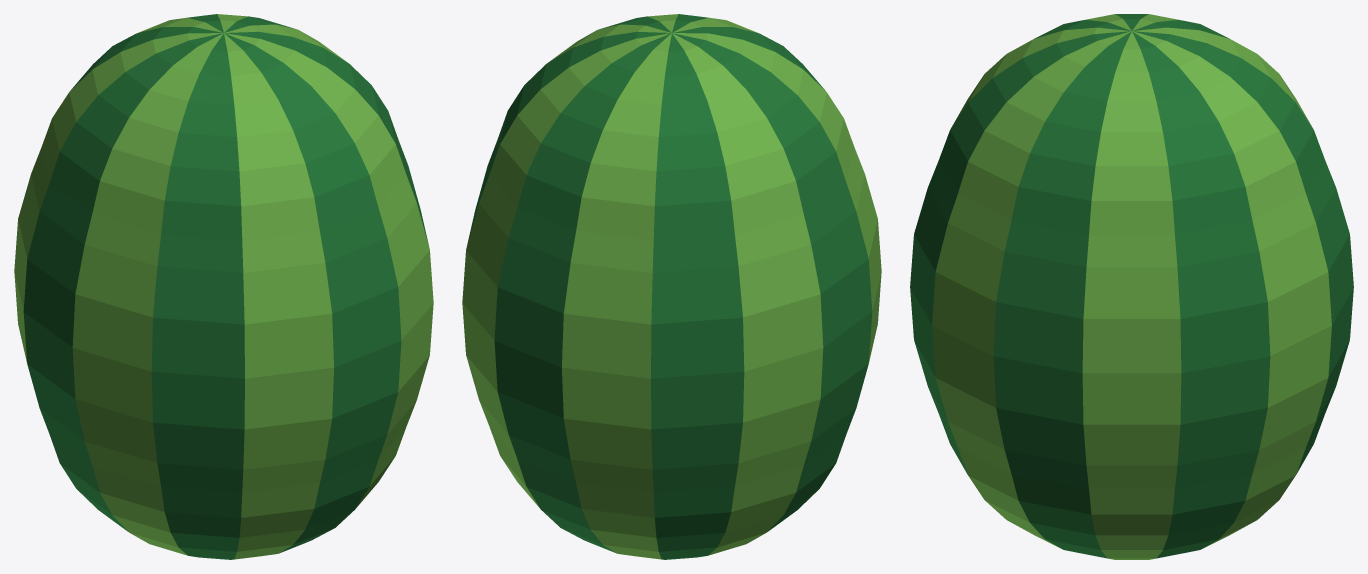
File: Melon.fbx
The picture shows the model from 3 angles, left to right: view 1: azimuth 30°, elevation 25°; view 2: azimuth 150°, elevation 25°; view 3: azimuth 270°, elevation 25°; orthographic projection.
Visible parts, largest first — view 1: Sphere; view 2: Sphere; view 3: Sphere.
Boxes of the visible parts, x1,y1,x2,y2 form: Sphere: (14,14,433,559); Sphere: (462,14,881,559); Sphere: (910,14,1353,559).
Bounding box in the file's own units: 129 × 178 × 140.
